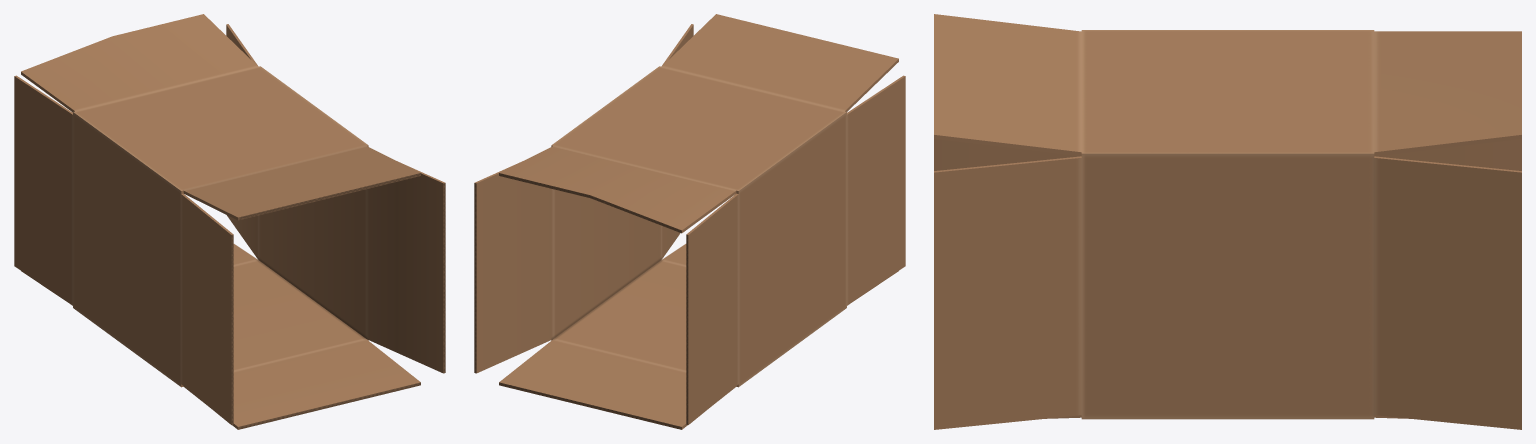
File: Box_Open.fbx
3 views of the same model, side by side, from view 1: azimuth 30°, elevation 25°; view 2: azimuth 150°, elevation 25°; view 3: azimuth 270°, elevation 25° (orthographic). The views are drawn at different scales.
Visible parts, largest first — view 1: Cardboard_Tunnel; view 2: Cardboard_Tunnel; view 3: Cardboard_Tunnel.
Boxes of the visible parts, x1,y1,x2,y2 form: Cardboard_Tunnel: (14, 14, 445, 429); Cardboard_Tunnel: (474, 14, 905, 429); Cardboard_Tunnel: (934, 14, 1521, 429).
Size of the model in its own units: 1.14 by 1.08 by 2.01.
